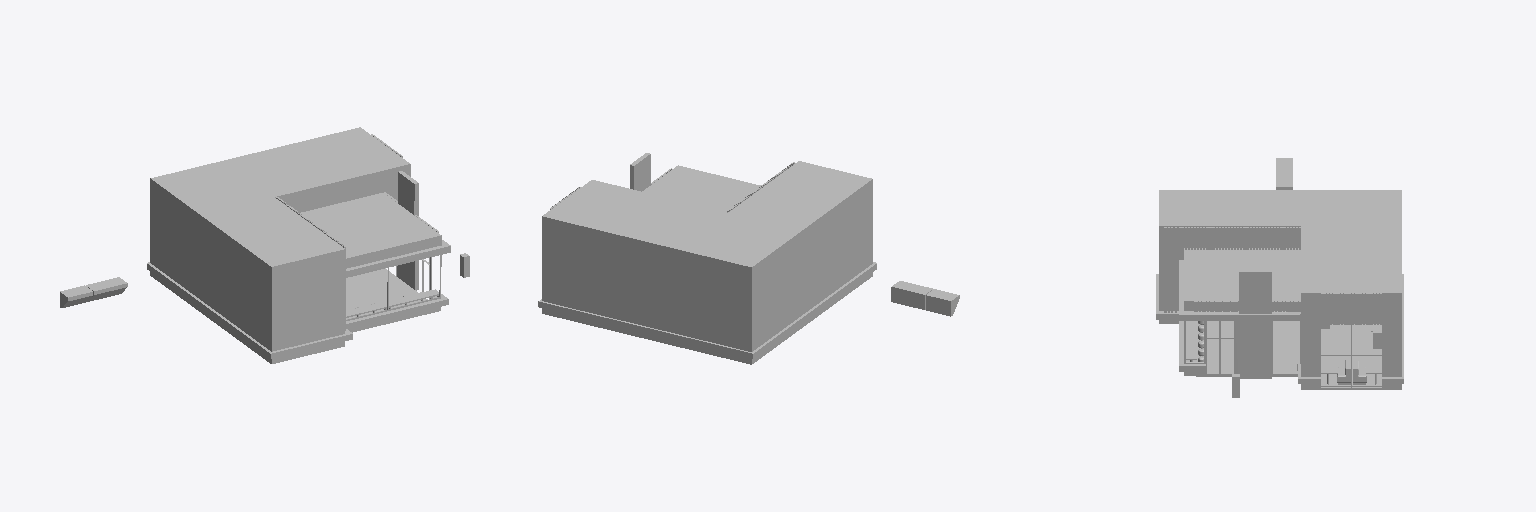
3 views of the same model, side by side, from view 1: azimuth 30°, elevation 25°; view 2: azimuth 150°, elevation 25°; view 3: azimuth 270°, elevation 25° (orthographic).
Visible parts, largest first — view 1: blackbuild, whitebuild, polup, pollbuild, Cube.005, redbuild, mebeli, framebuild; view 2: blackbuild, whitebuild, pollbuild, Cube.005, redbuild; view 3: blackbuild, polup, stickbuild, redbuild, whitebuild, woodbuild, framebuild, mebeli, pollbuild, Cube.005, stol.
Boxes of the visible parts, x1=… form: blackbuild: x1=150, y1=127, x2=441, y2=351; whitebuild: x1=147, y1=240, x2=450, y2=359; polup: x1=346, y1=268, x2=427, y2=319; pollbuild: x1=150, y1=261, x2=440, y2=363; Cube.005: x1=60, y1=277, x2=127, y2=307; redbuild: x1=398, y1=171, x2=418, y2=289; mebeli: x1=346, y1=290, x2=438, y2=317; framebuild: x1=346, y1=255, x2=441, y2=320; blackbuild: x1=542, y1=161, x2=872, y2=351; whitebuild: x1=538, y1=262, x2=876, y2=359; pollbuild: x1=542, y1=272, x2=872, y2=364; Cube.005: x1=891, y1=281, x2=959, y2=316; redbuild: x1=630, y1=153, x2=650, y2=191; blackbuild: x1=1159, y1=190, x2=1401, y2=376; polup: x1=1186, y1=321, x2=1381, y2=386; stickbuild: x1=1164, y1=227, x2=1381, y2=324; redbuild: x1=1239, y1=270, x2=1271, y2=378; whitebuild: x1=1156, y1=260, x2=1403, y2=383; woodbuild: x1=1164, y1=226, x2=1379, y2=323; framebuild: x1=1184, y1=321, x2=1381, y2=389; mebeli: x1=1186, y1=321, x2=1381, y2=384; pollbuild: x1=1159, y1=320, x2=1401, y2=389; Cube.005: x1=1276, y1=158, x2=1292, y2=189; stol: x1=1321, y1=324, x2=1381, y2=384.
Bounding box in the file's own units: 1302 × 350 × 737.